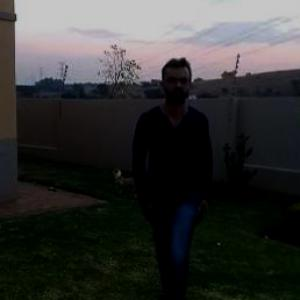follow: (127, 56, 209, 299)
